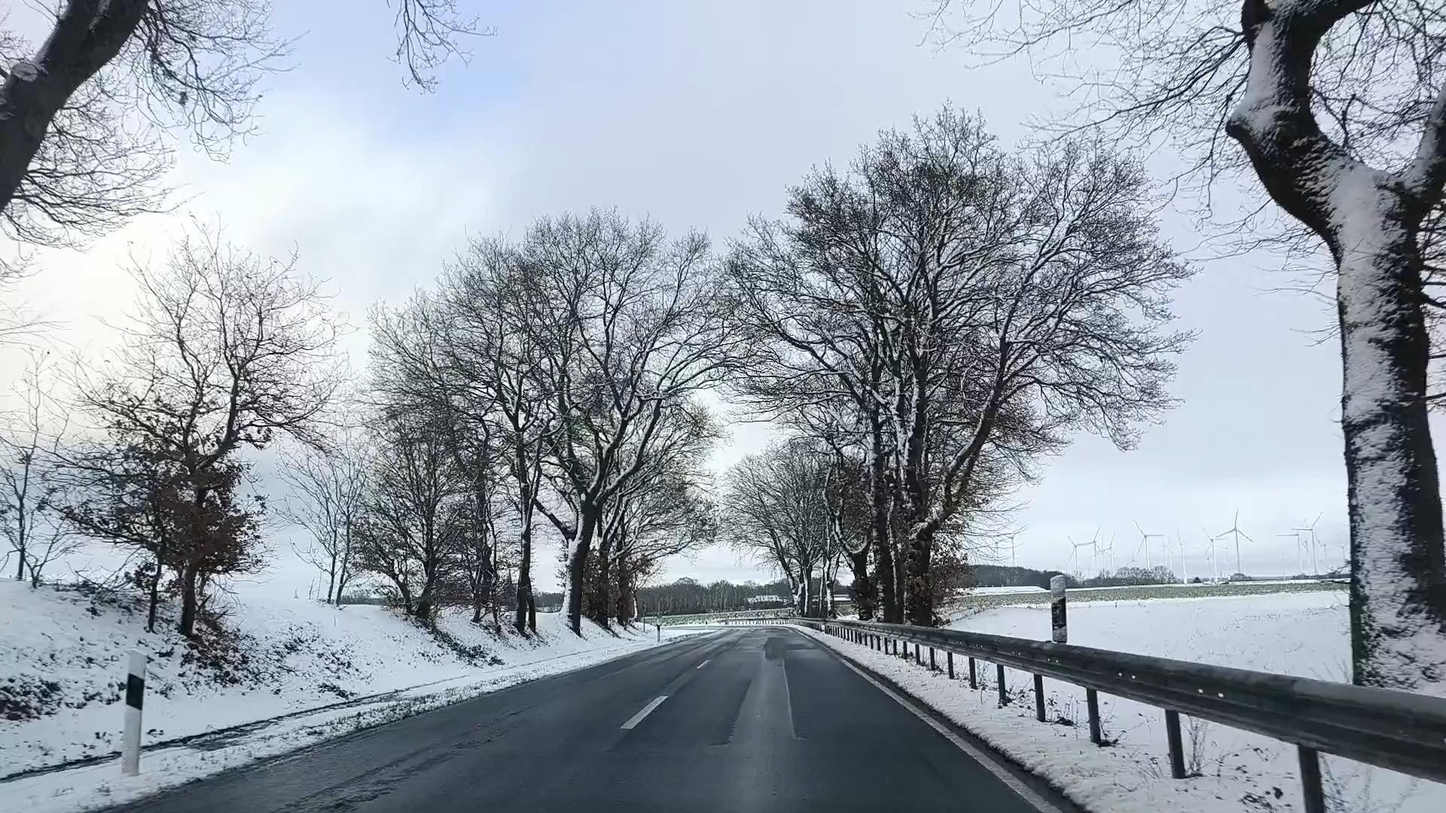Snow: (0, 584, 704, 813), (806, 589, 1446, 813)
dry: (111, 625, 1073, 813)
